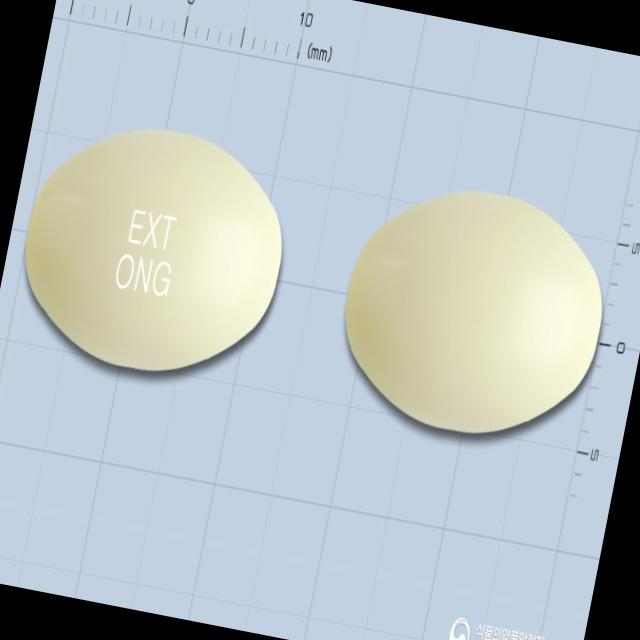ONG Vaginal Soft Cap: (6, 107, 302, 395)
